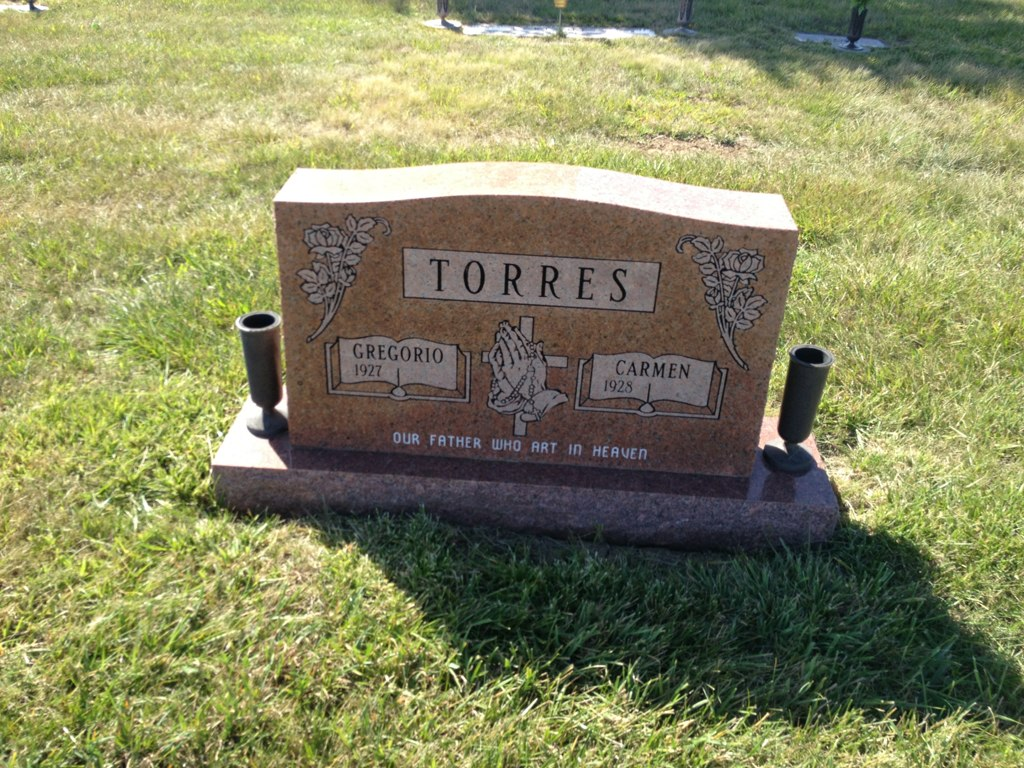upright: (207, 159, 843, 560)
